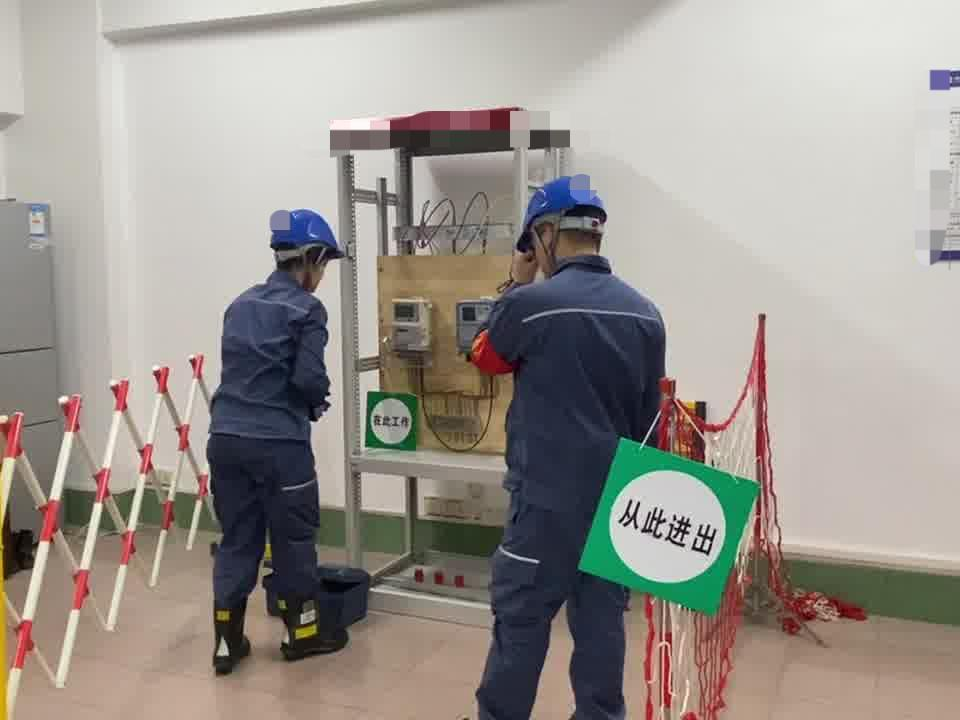halt: (522, 178, 614, 267), (271, 210, 347, 289)
inear: (533, 217, 567, 265), (297, 247, 326, 288)
